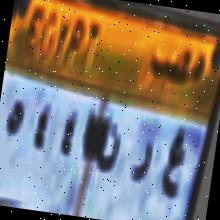4: (30, 100, 52, 158), (59, 107, 79, 161)
5: (2, 95, 26, 145)
ghayn: (158, 128, 188, 206)
noon: (96, 122, 126, 172)
raa: (129, 140, 154, 188)
